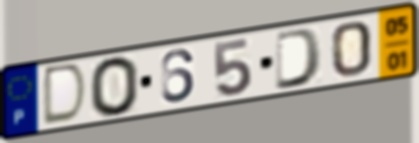0: (329, 20, 375, 79)
5: (212, 35, 255, 99)
6: (159, 48, 198, 106)
D: (273, 26, 325, 93), (40, 61, 90, 129)
O: (87, 54, 142, 119)
